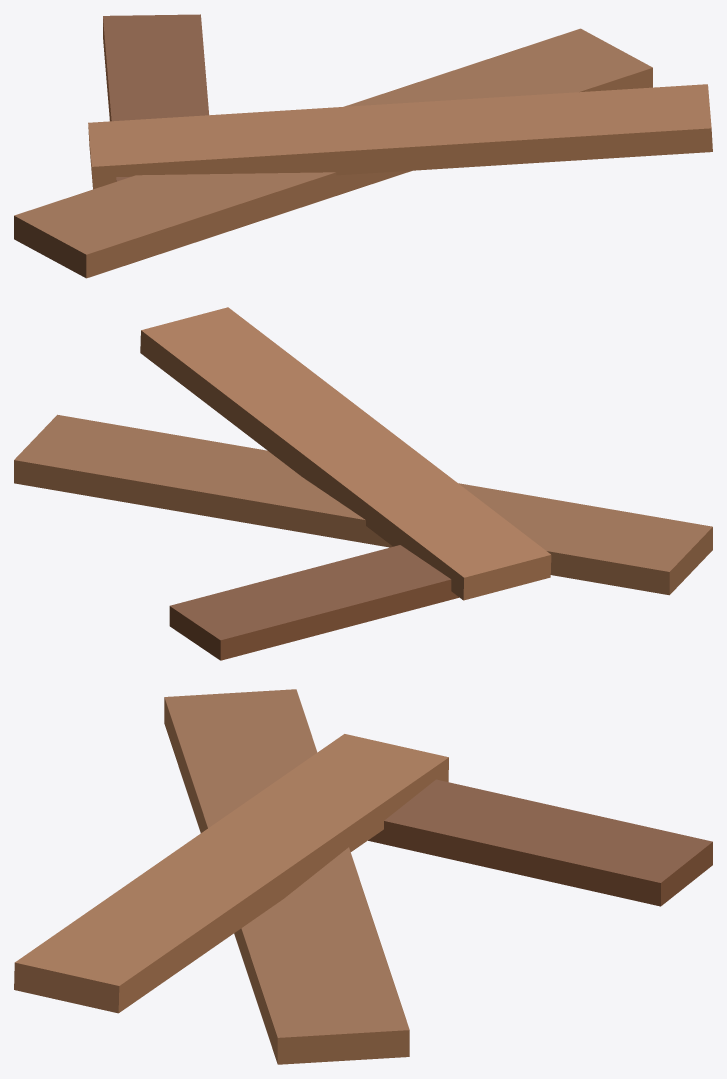
The model's file is planks.glb.
3 renders of one model, top to bottom at view 1: azimuth 30°, elevation 25°; view 2: azimuth 150°, elevation 25°; view 3: azimuth 270°, elevation 25°, orthographic. The views are drawn at different scales.
Visible parts, largest first — view 1: planks; view 2: planks; view 3: planks.
Part boxes in pixels (left/top/right/bottom): planks: left=14, top=14, right=712, bottom=278; planks: left=14, top=307, right=712, bottom=660; planks: left=14, top=689, right=712, bottom=1064.
Bounding box in the file's own units: 2.23 × 0.2097 × 1.89.
